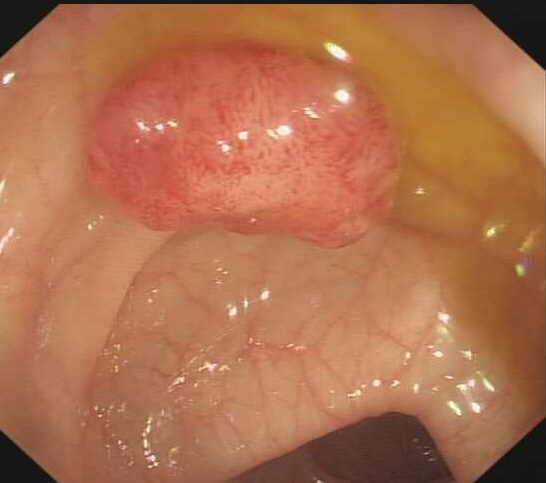adenoma: (80, 39, 402, 254)
